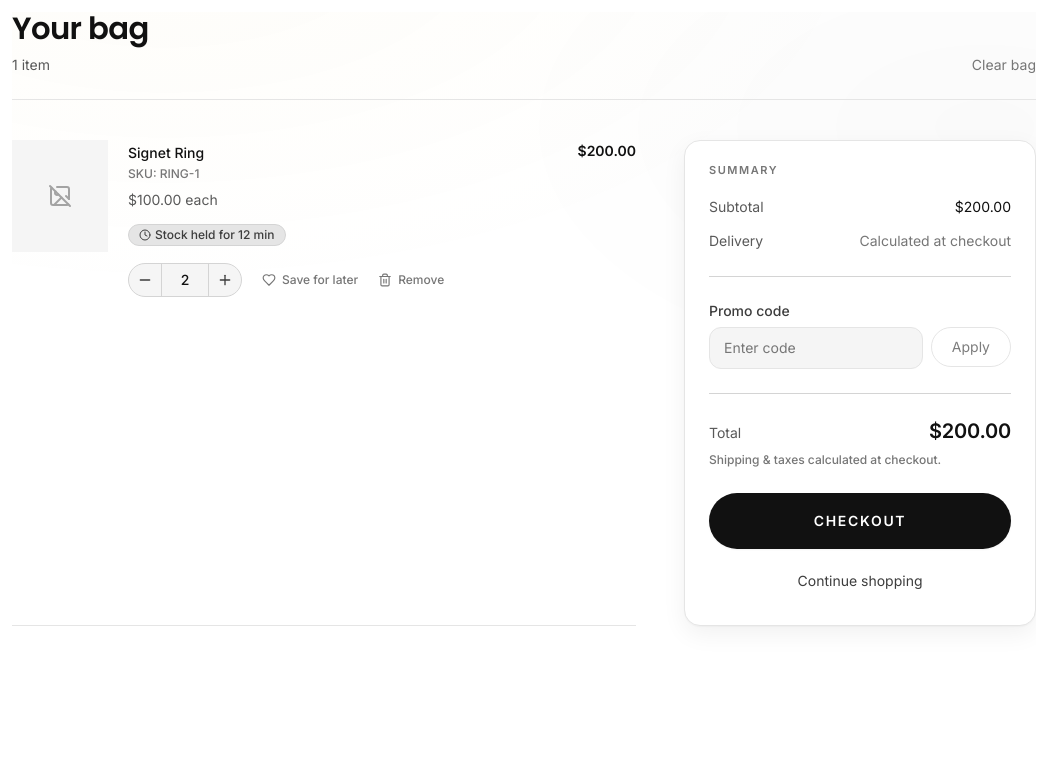
Test: Cart (WP-2.4) › applying an invalid coupon surfaces the rejection message (WP-3.4)
Type "EXPIRED" into the field named "promo code" at (816, 348), box top-left (709, 327), bottom-right (923, 369)
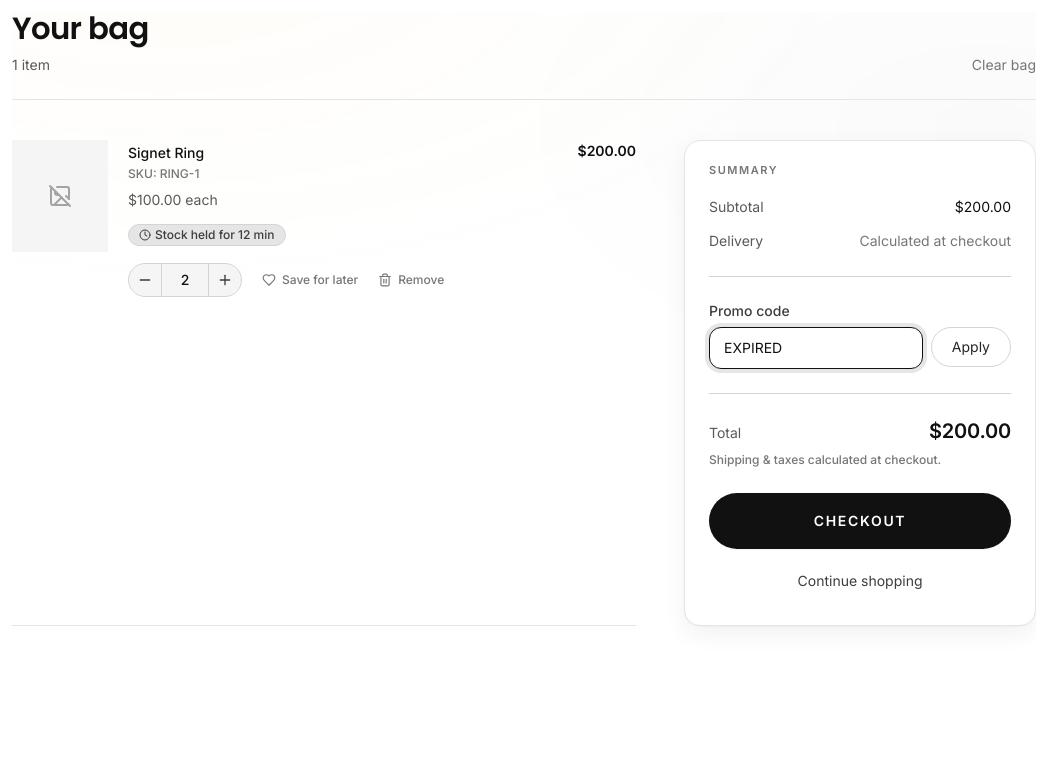
Click the button "Apply" at (971, 347), box top-left (931, 327), bottom-right (1011, 367)
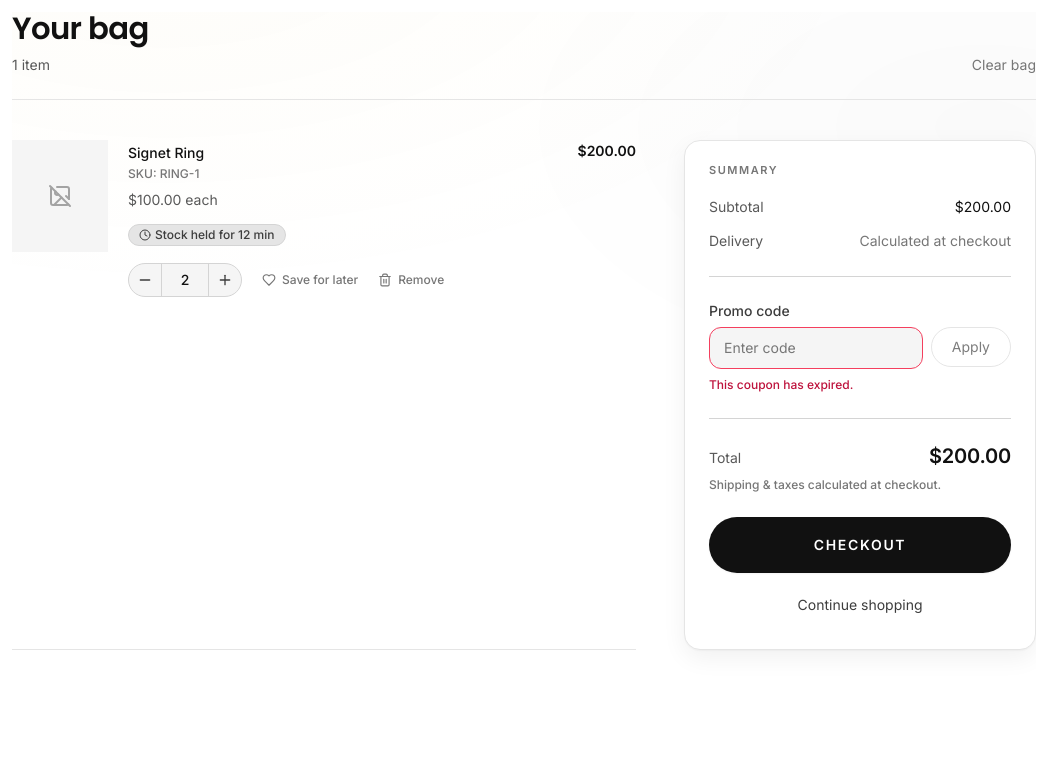
Result: the text "This coupon has expired." is shown at top-left (709, 377), bottom-right (853, 392)
